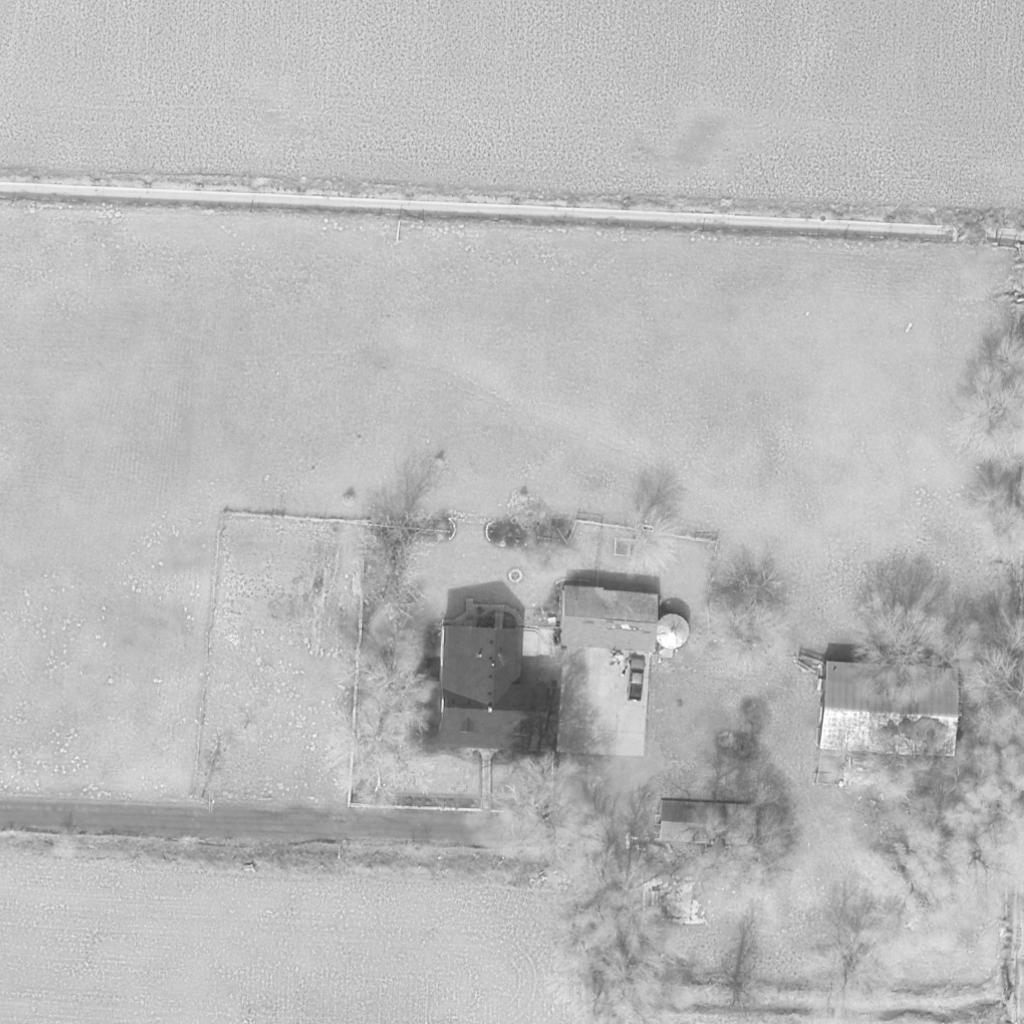vehicle: (626, 655, 648, 701)
